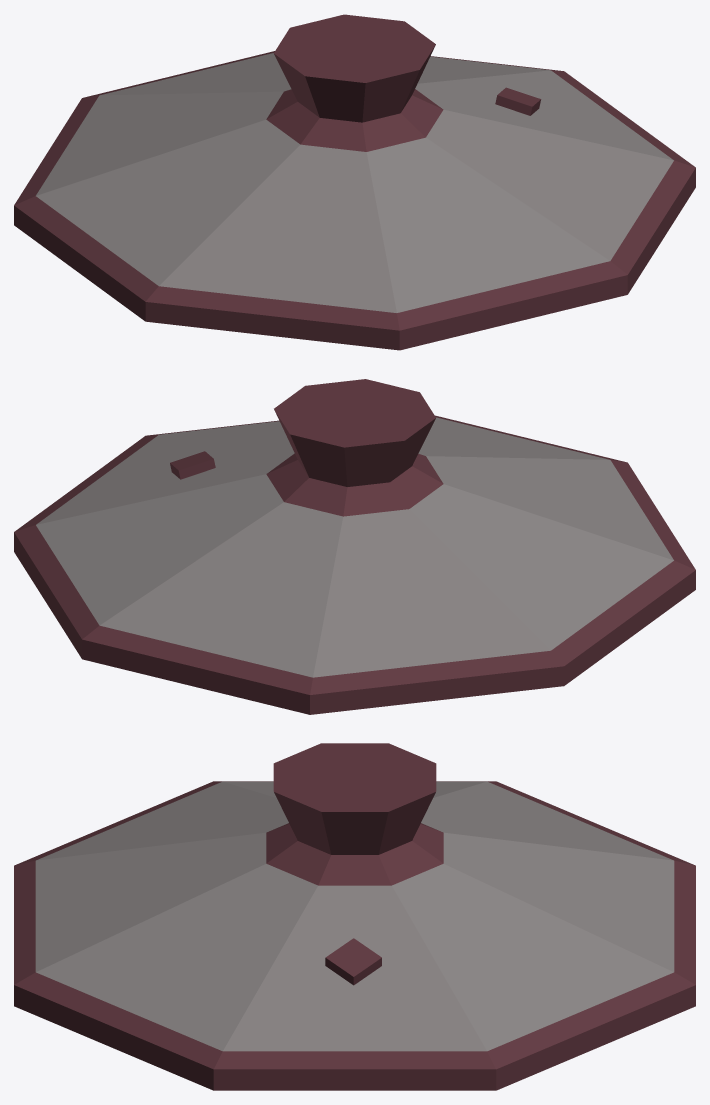
File: lid-small.fbx
The picture shows the model from 3 angles, top to bottom: view 1: azimuth 30°, elevation 25°; view 2: azimuth 150°, elevation 25°; view 3: azimuth 270°, elevation 25°; orthographic projection. The views are drawn at different scales.
Visible parts, largest first — view 1: lid-small; view 2: lid-small; view 3: lid-small.
Boxes of the visible parts, left/top/right/bottom form: lid-small: left=14, top=14, right=695, bottom=350; lid-small: left=14, top=379, right=695, bottom=714; lid-small: left=14, top=743, right=695, bottom=1090.
Bounding box in the file's own units: 0.1398 × 0.0382 × 0.1398.
